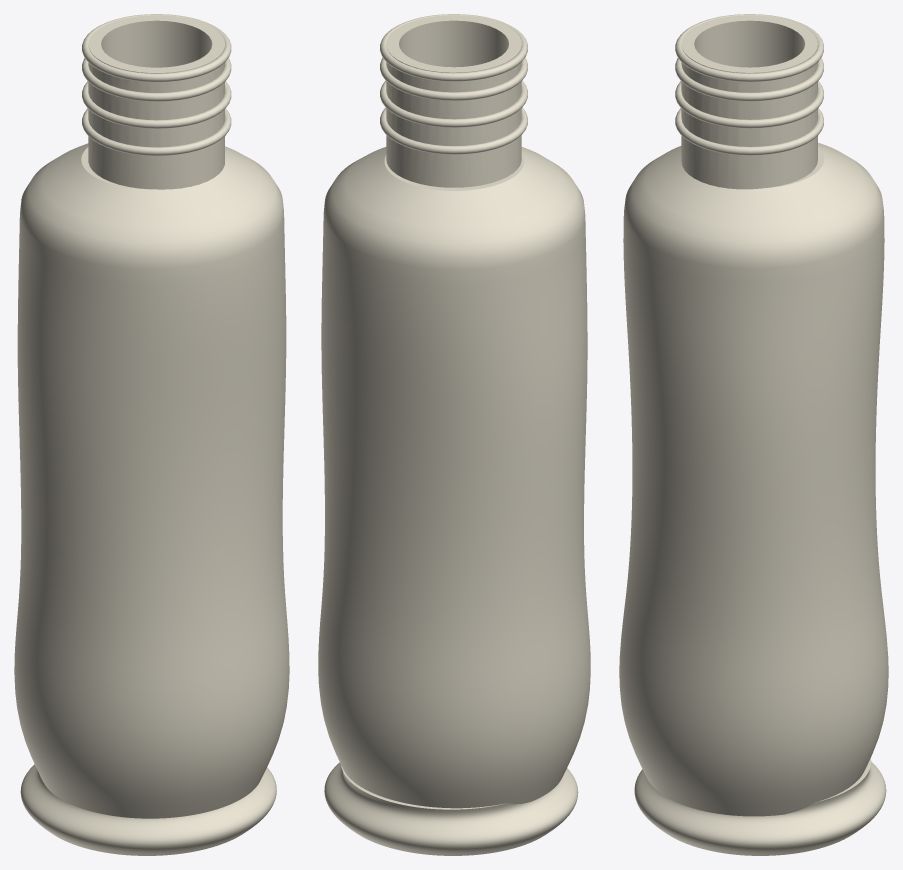
Rendered from tonic_bottle__43c4ae67059b.glb.
3 views of the same model, side by side, from view 1: azimuth 30°, elevation 25°; view 2: azimuth 150°, elevation 25°; view 3: azimuth 270°, elevation 25° (orthographic).
Visible parts, largest first — view 1: body, neck, foot; view 2: body, neck, foot; view 3: body, neck, foot.
Boxes of the visible parts, <box> form: body: <box>14,143,289,818</box>; neck: <box>82,14,231,189</box>; foot: <box>20,764,276,855</box>; body: <box>318,147,590,808</box>; neck: <box>380,14,527,187</box>; foot: <box>324,762,578,855</box>; body: <box>619,142,888,816</box>; neck: <box>675,14,823,189</box>; foot: <box>634,758,886,855</box>.
Bounding box in the file's own units: 0.0647 × 0.198 × 0.0632.
